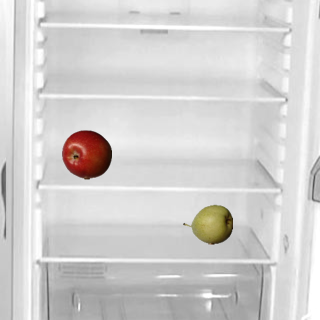Apple Braeburn: (61, 129, 111, 179)
Pear: (182, 199, 232, 249)
